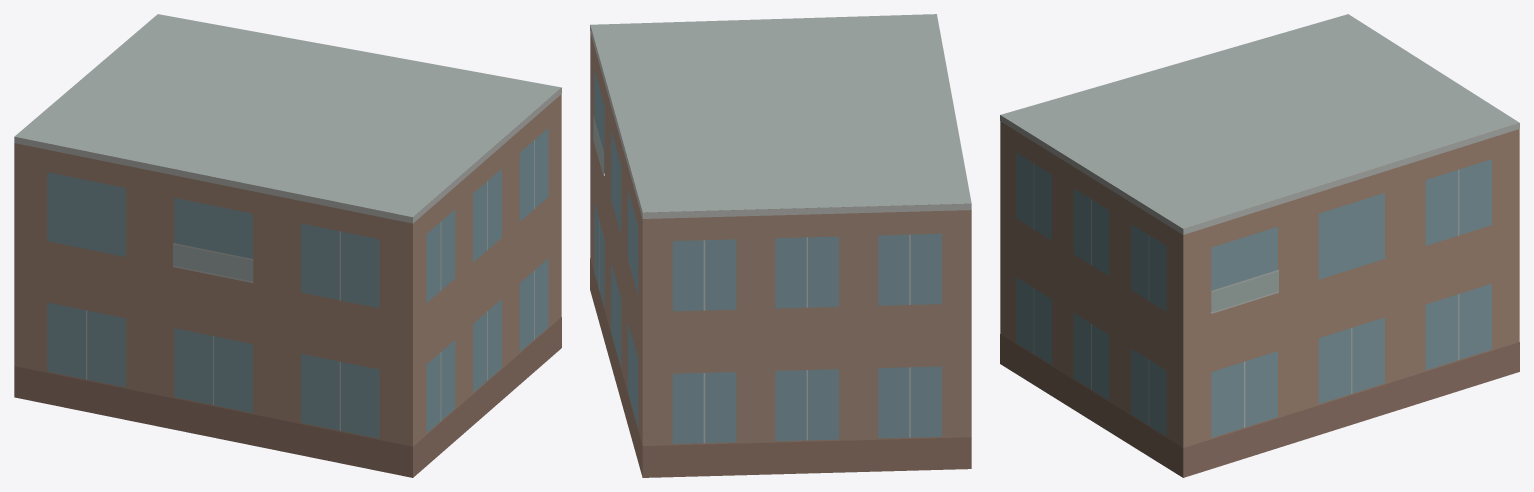
Rendered from survey-upis-33007887.glb.
The picture shows the model from 3 angles, left to right: view 1: azimuth 30°, elevation 25°; view 2: azimuth 150°, elevation 25°; view 3: azimuth 270°, elevation 25°; orthographic projection. The views are drawn at different scales.
Visible parts, largest first — view 1: survey-upis-33007887.tmp; view 2: survey-upis-33007887.tmp; view 3: survey-upis-33007887.tmp.
Boxes of the visible parts, <box> form: survey-upis-33007887.tmp: <box>14,14,561,477</box>; survey-upis-33007887.tmp: <box>590,14,971,477</box>; survey-upis-33007887.tmp: <box>1000,14,1519,477</box>.
Size of the model in its own units: 18.46 by 9.97 by 18.87.
